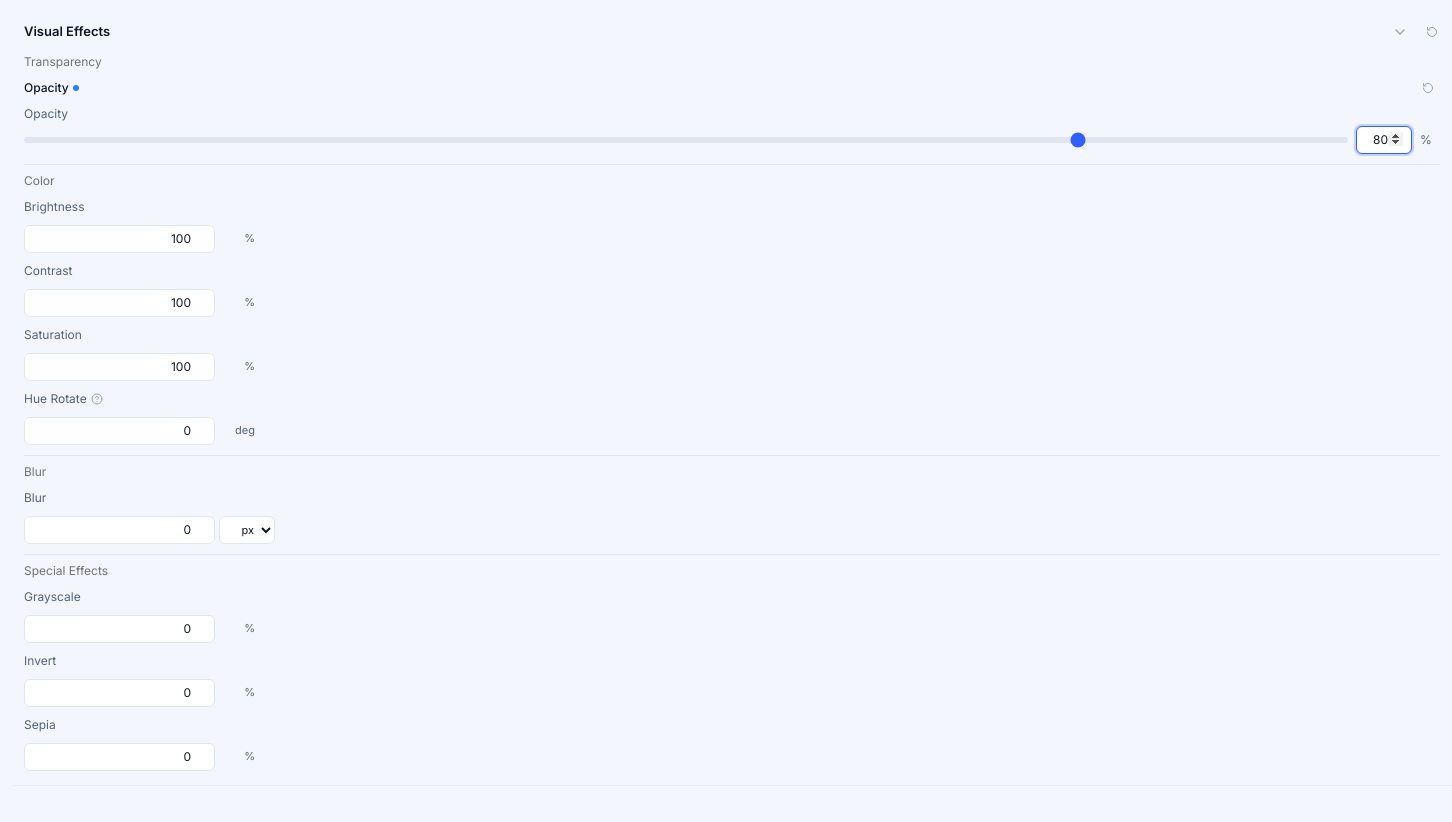
Test case: InspectorFiltersSection › Opacity exact-value edit sessions against the real store (BC-01.2) › Escape discards a changed value: no document change, no history, project stays clean
Replace the text in the number field named "Opacity (exact value)" with "25". click: coordinates (1384, 140)
box: [1356,126,1412,154]
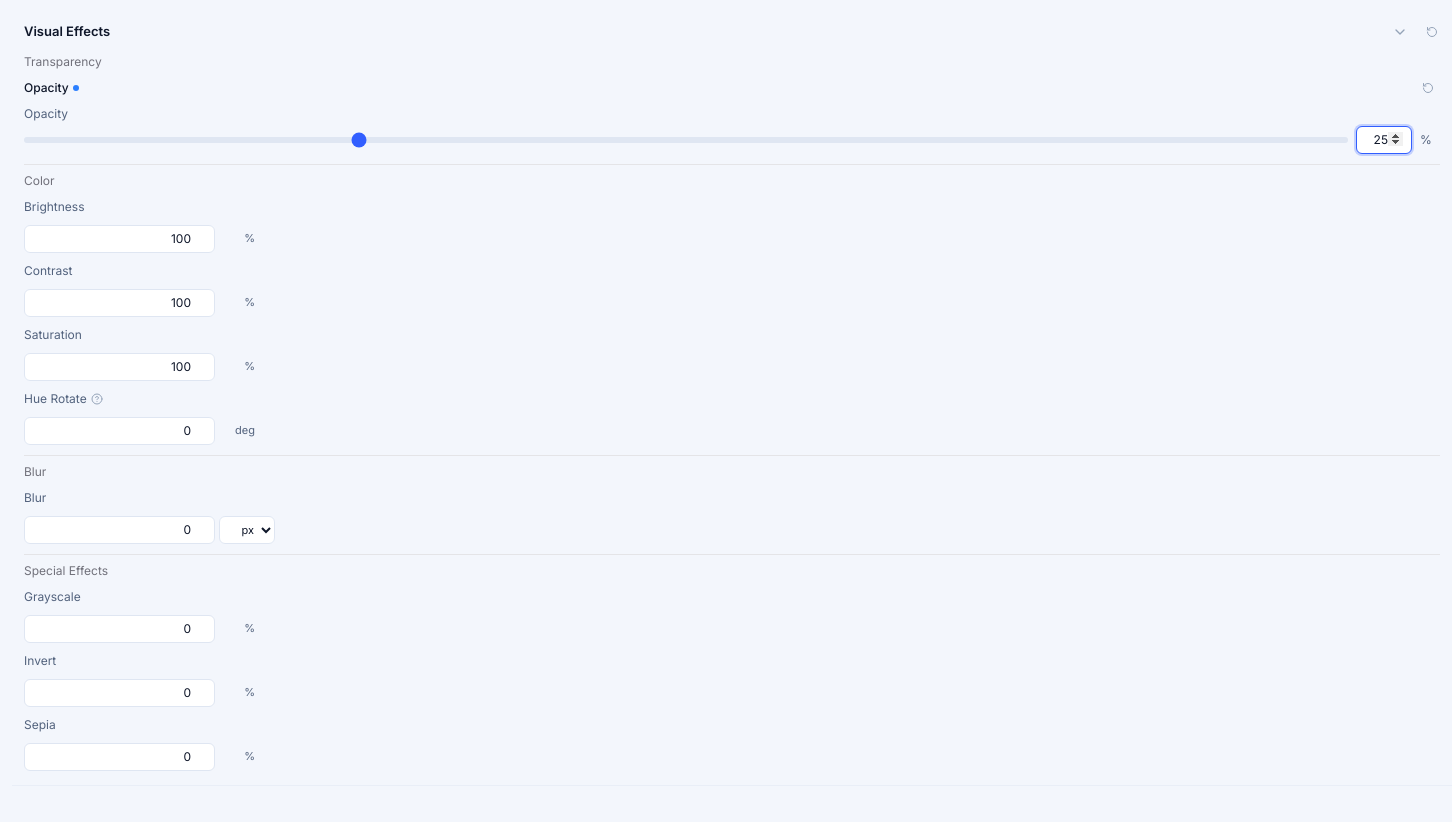
Press Escape in the number field named "Opacity (exact value)", box [1356,126,1412,154]
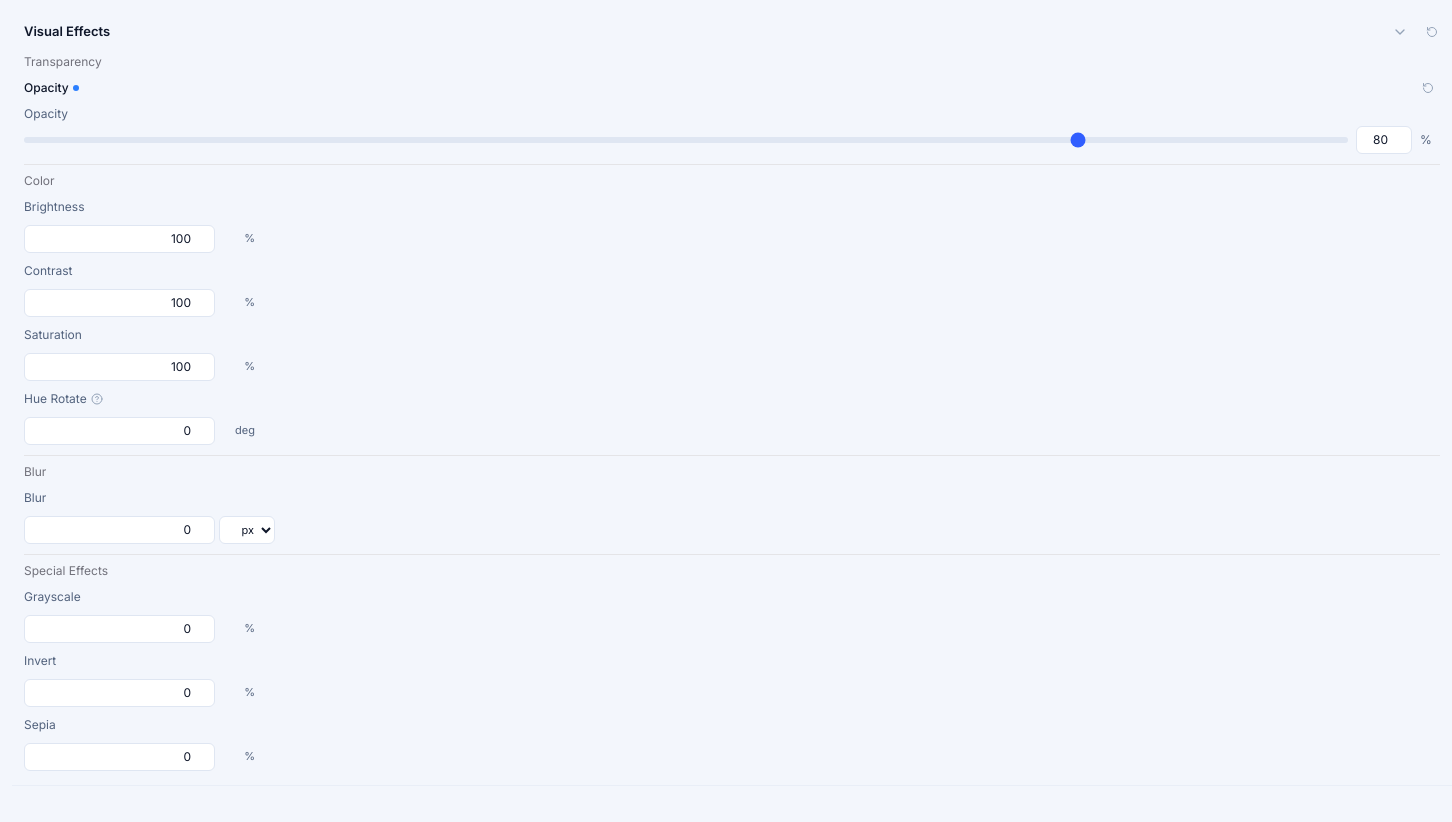
Now the number field named "Opacity (exact value)" holds "80", box [1356,126,1412,154]
